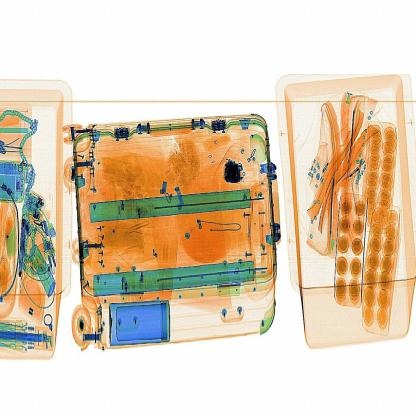scissors: (218, 152, 252, 190)
